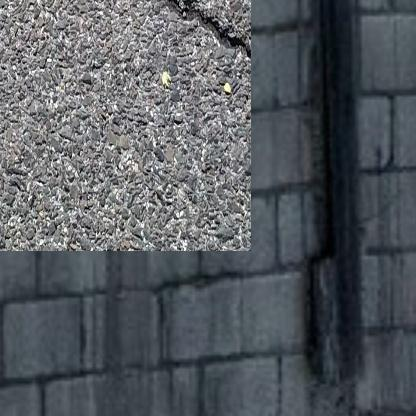Cracks: (145, 0, 232, 55)
